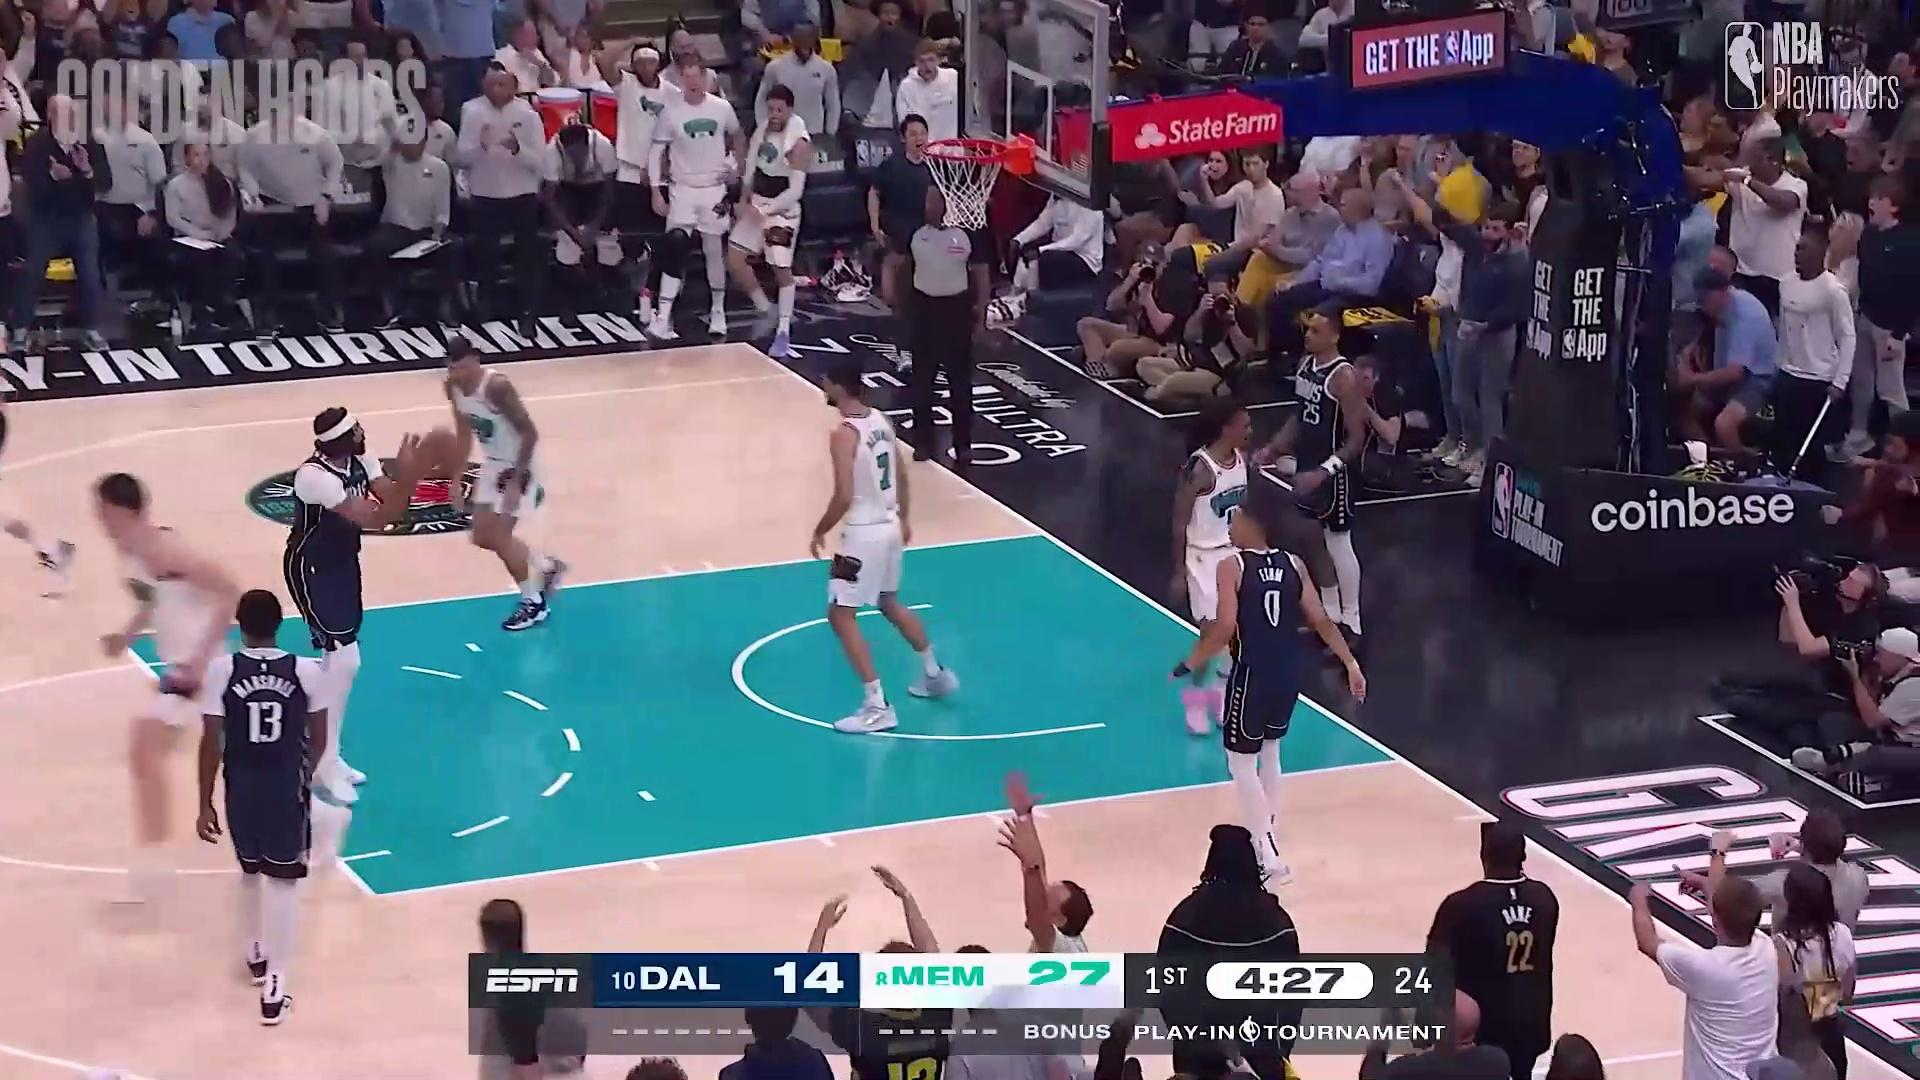ball: (418, 429, 467, 475)
hoop: (920, 124, 1013, 245)
